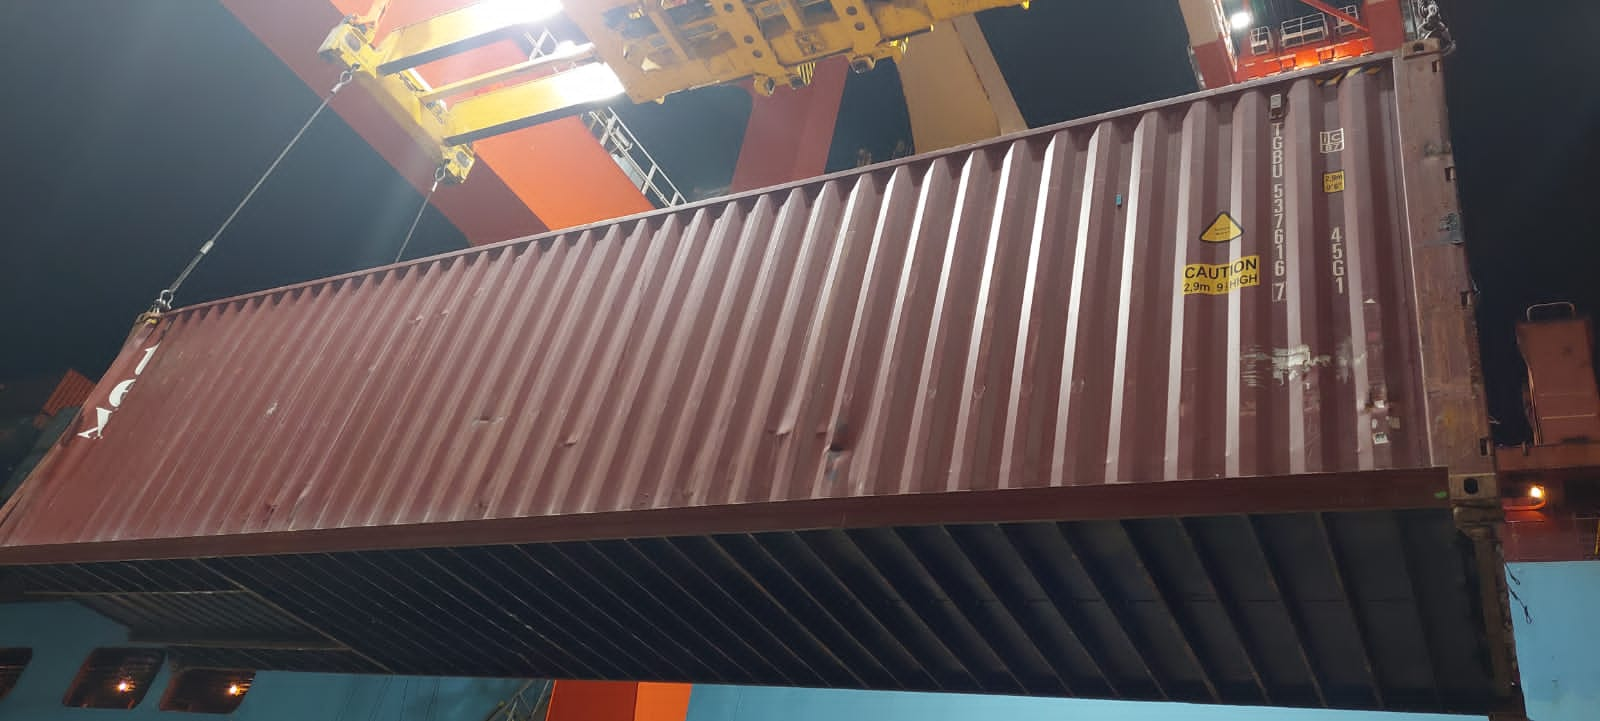dented: (760, 414, 873, 480), (242, 487, 295, 528), (552, 431, 583, 455), (461, 411, 504, 424)
